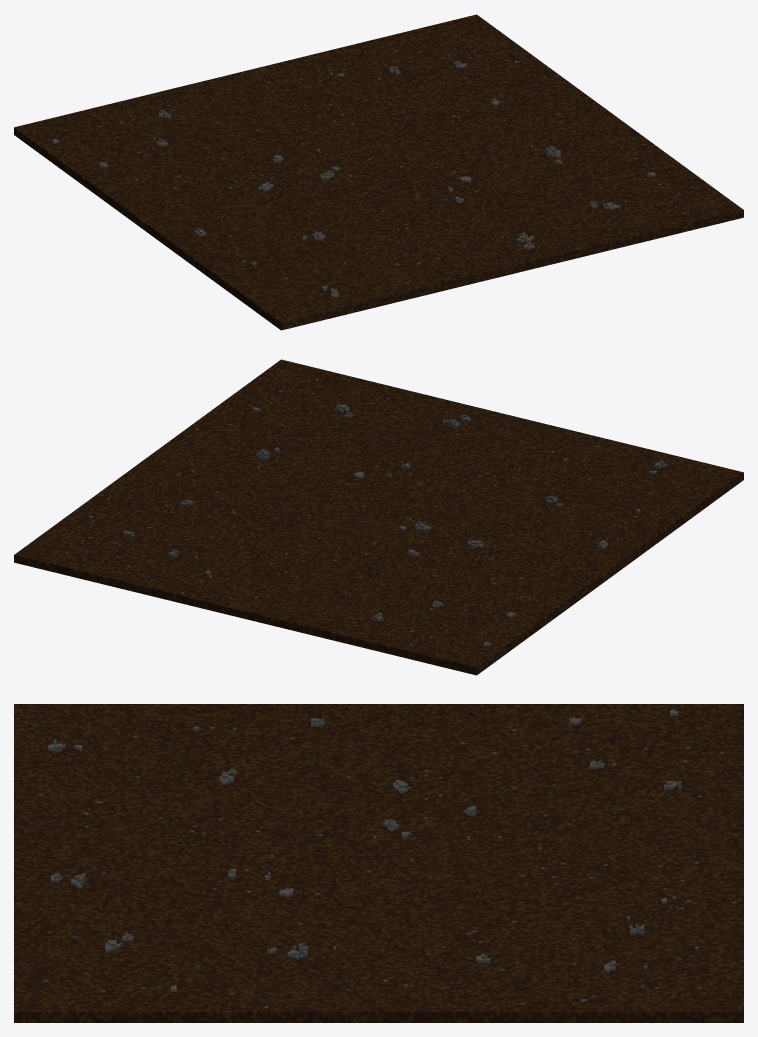
The model's file is ground2-1.fbx.
3 views of the same model, one above another, from view 1: azimuth 30°, elevation 25°; view 2: azimuth 150°, elevation 25°; view 3: azimuth 270°, elevation 25° (orthographic). The views are drawn at different scales.
Parts seen in each view (by area): view 1: ground2-1; view 2: ground2-1; view 3: ground2-1.
Part boxes in pixels (x1,y1,x2,y2): ground2-1: [14, 14, 743, 330]; ground2-1: [14, 359, 743, 675]; ground2-1: [14, 704, 743, 1022].
Bounding box in the file's own units: 256 × 8 × 256.
